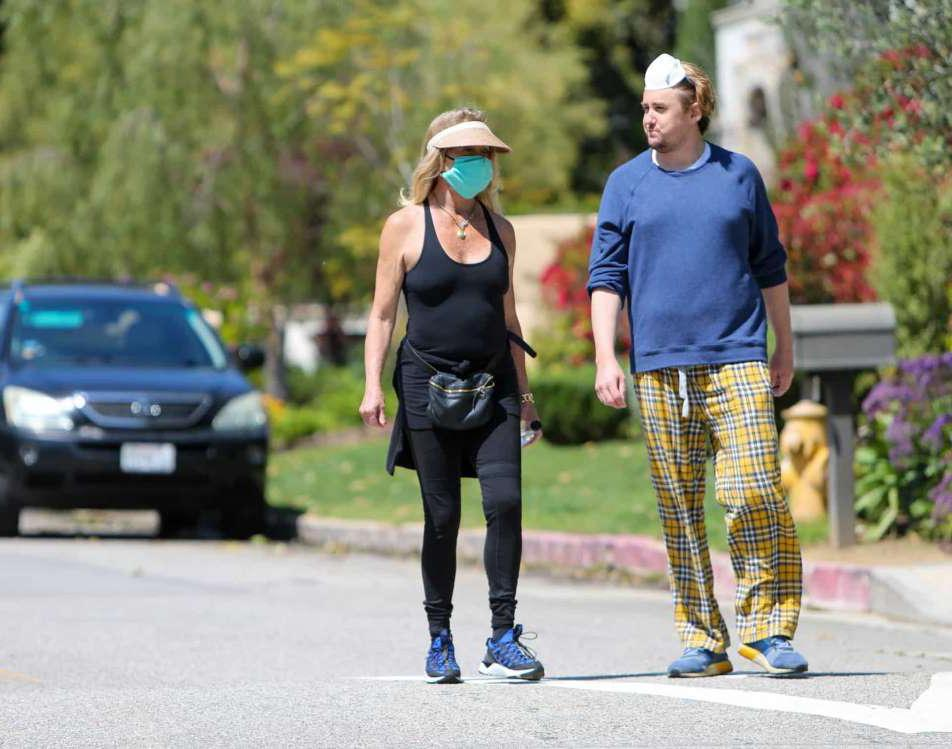mask_weared_incorrect: (638, 75, 687, 153)
with_mask: (444, 147, 496, 190)
